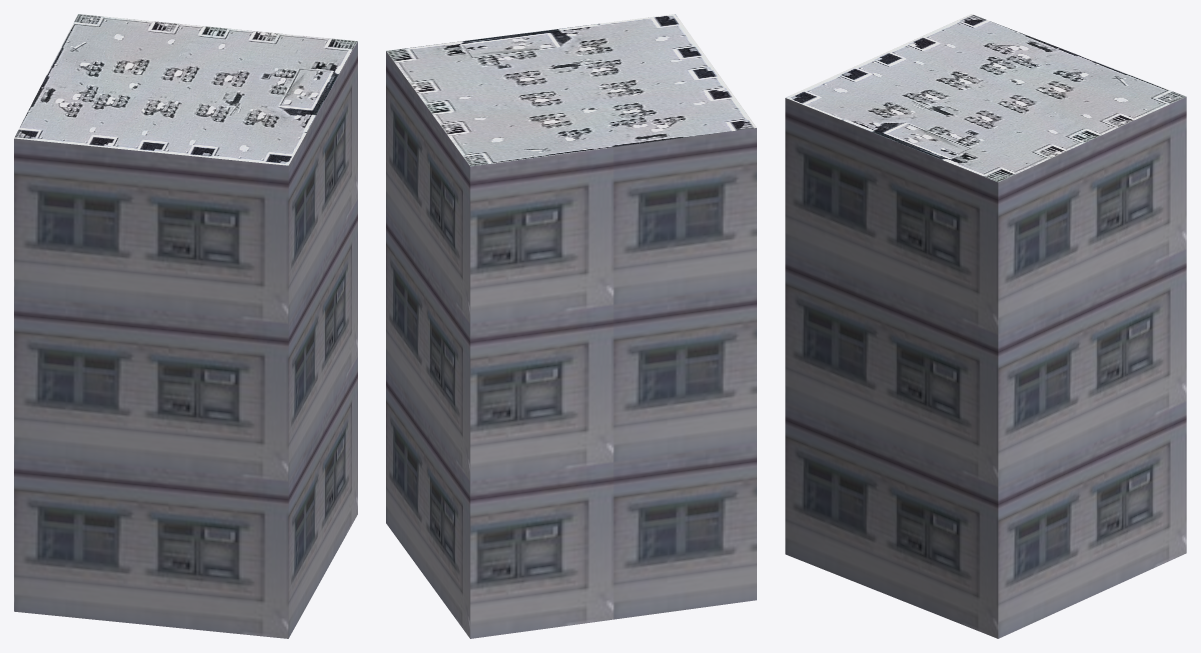
The model's file is ResTex__5127.fbx.
3 views of the same model, side by side, from view 1: azimuth 30°, elevation 25°; view 2: azimuth 150°, elevation 25°; view 3: azimuth 270°, elevation 25° (orthographic). The views are drawn at different scales.
Visible parts, largest first — view 1: CityEngineMaterial_1_m, CityEngineMaterial_2_m; view 2: CityEngineMaterial_1_m, CityEngineMaterial_2_m; view 3: CityEngineMaterial_1_m, CityEngineMaterial_2_m.
Boxes of the visible parts, bbox=[...] form: CityEngineMaterial_1_m: bbox=[14, 41, 357, 638]; CityEngineMaterial_2_m: bbox=[14, 14, 357, 165]; CityEngineMaterial_1_m: bbox=[386, 51, 756, 638]; CityEngineMaterial_2_m: bbox=[386, 14, 756, 166]; CityEngineMaterial_1_m: bbox=[785, 97, 1186, 638]; CityEngineMaterial_2_m: bbox=[785, 14, 1186, 182].
Size of the model in its own units: 7.12 by 9 by 7.17.
Materials: 2 (2 with a texture image).
